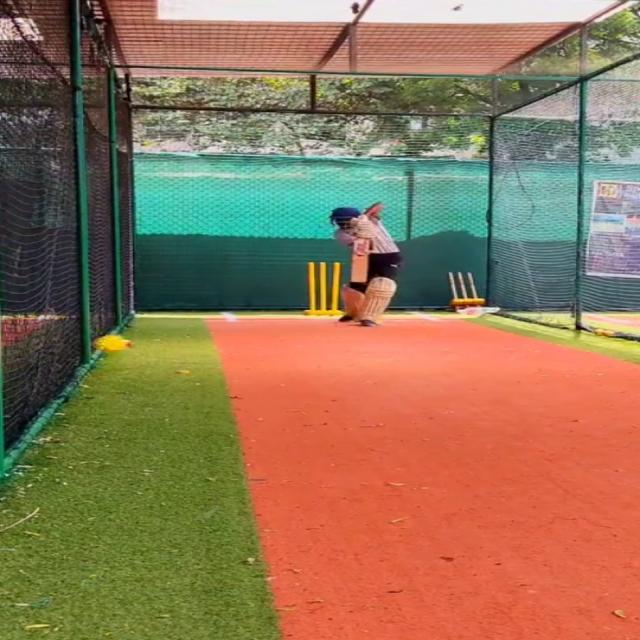ball: (88, 333, 132, 357)
stump: (304, 260, 342, 316)
